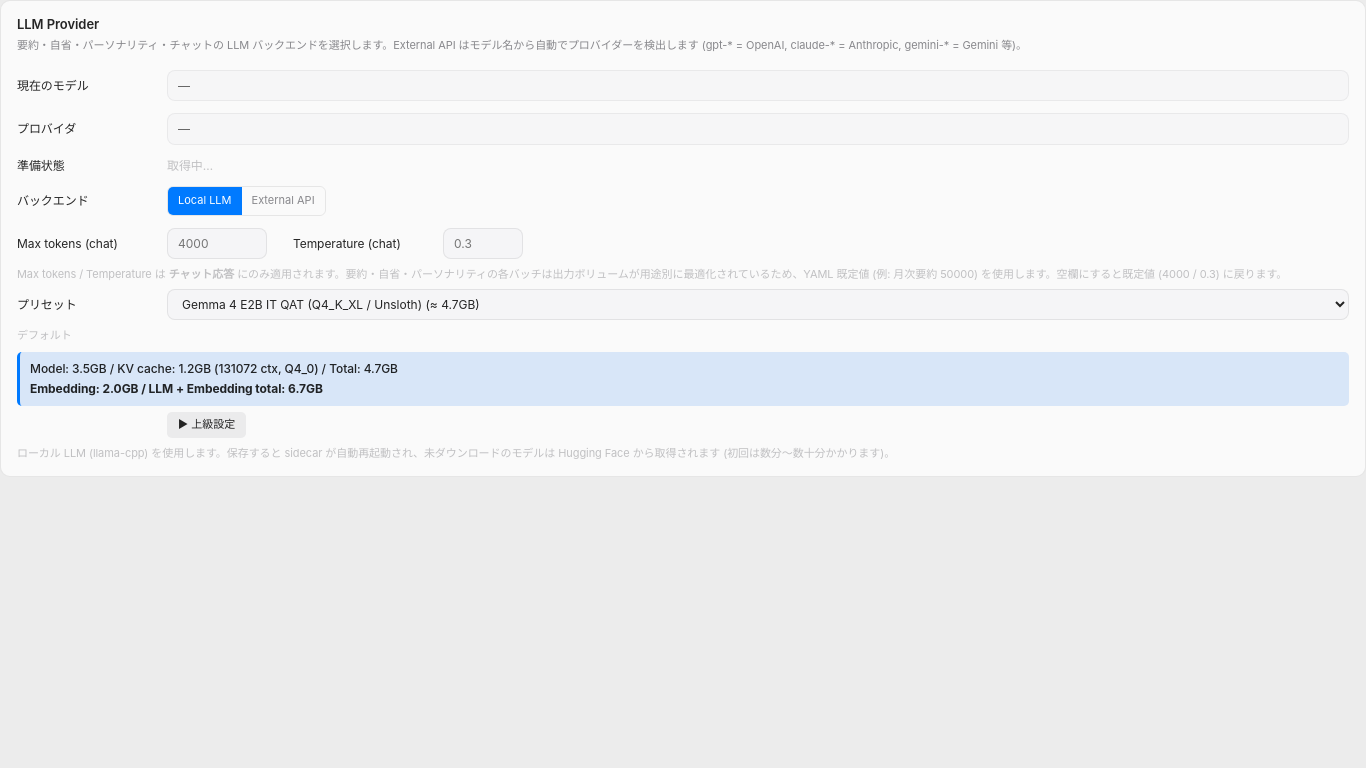
Test: LlmProviderCard local LLM presets › reveals hf_repo / gguf inputs when the user picks カスタム…
Select "カスタム…" in the dropdown. click: (758, 305)
box: left=167, top=289, right=1349, bottom=320
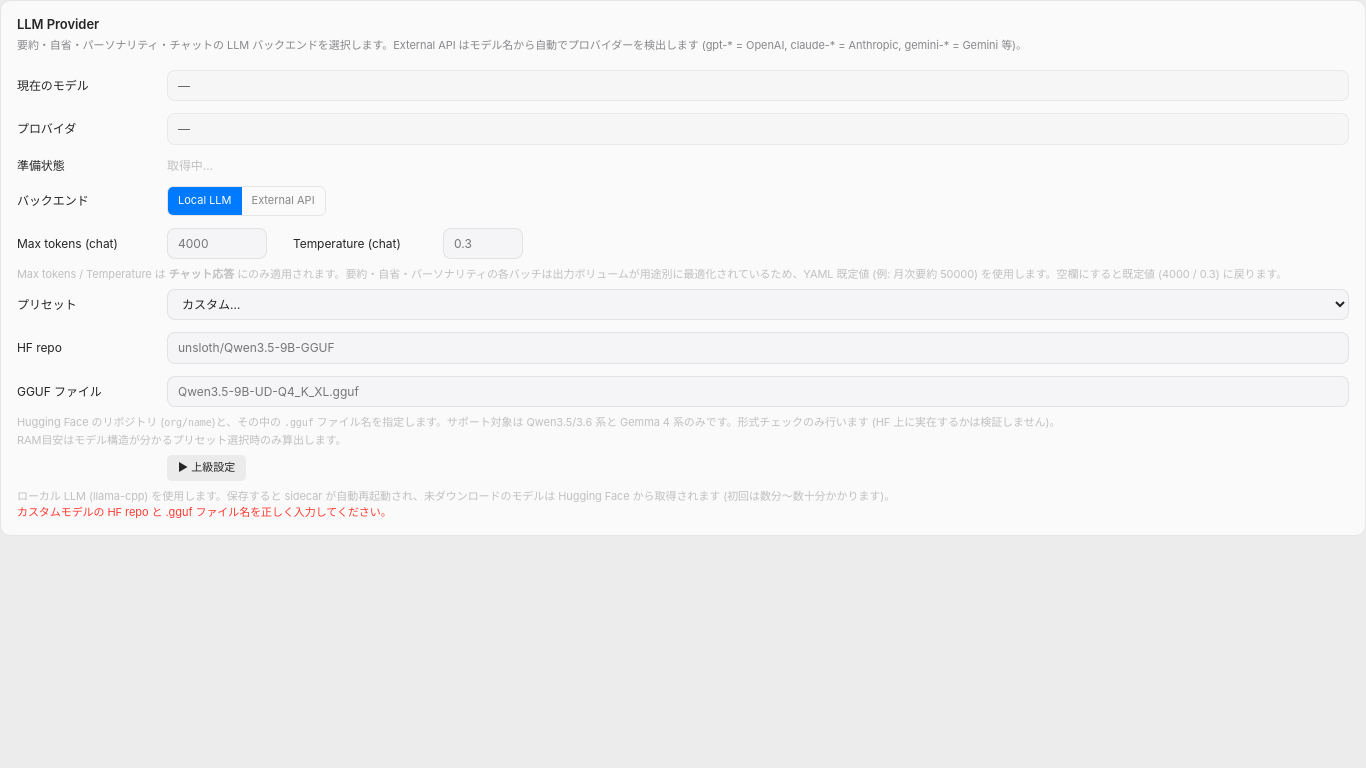
Result: the field with placeholder "unsloth/Qwen3.5-9B-GGUF" is shown at left=167, top=332, right=1349, bottom=364
Result: the field with placeholder "Qwen3.5-9B-UD-Q4_K_XL.gguf" is shown at left=167, top=376, right=1349, bottom=407
Result: the text "サポート対象は Qwen3.5/3.6 系と Gemma 4 系のみです" is shown at left=317, top=415, right=1060, bottom=429
